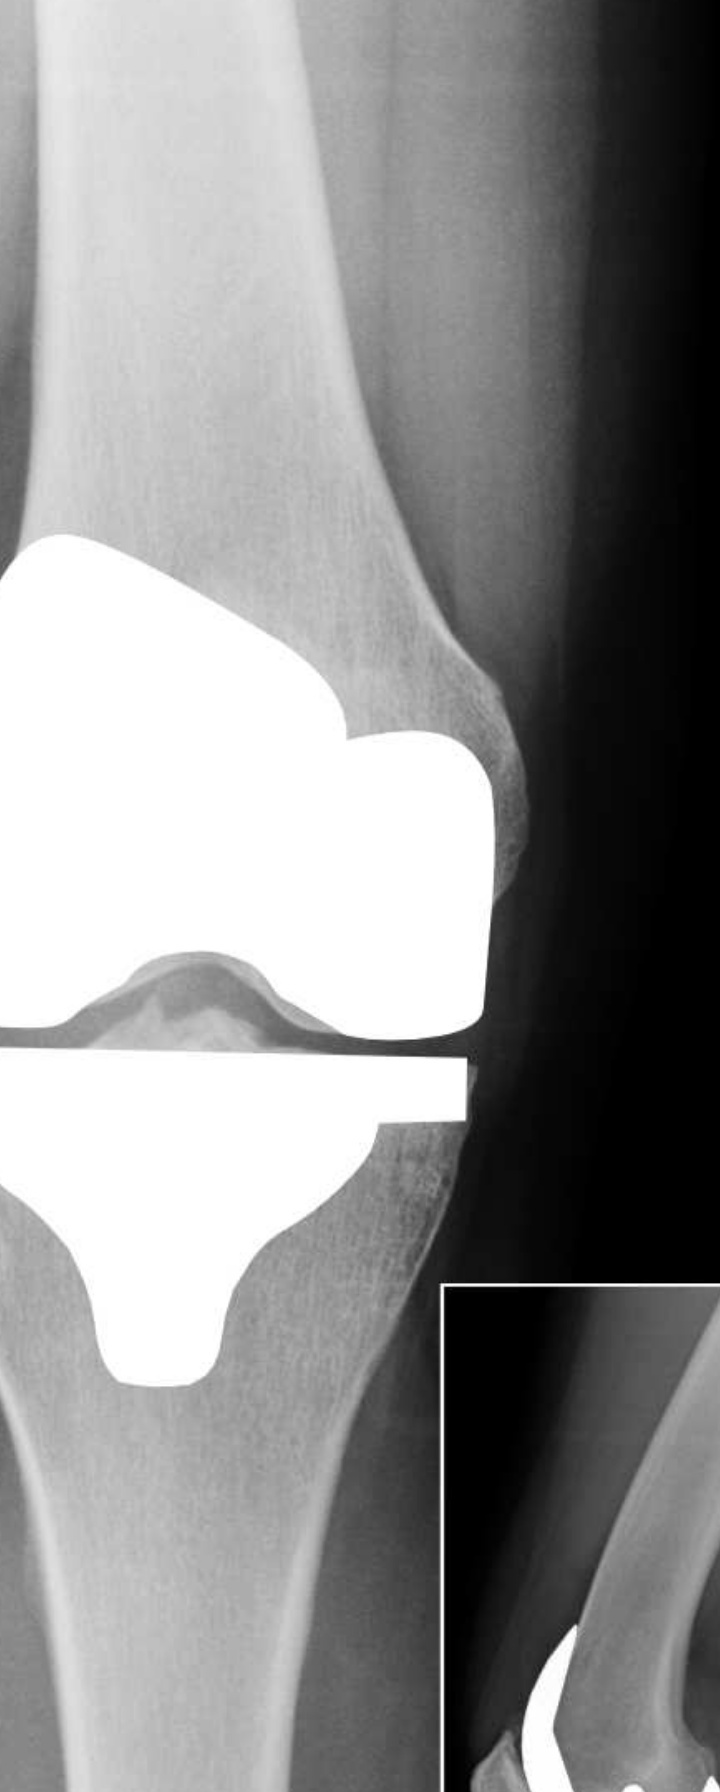Knee-Triathlon-Stryker: (1, 527, 517, 1390), (496, 1624, 715, 1790)
